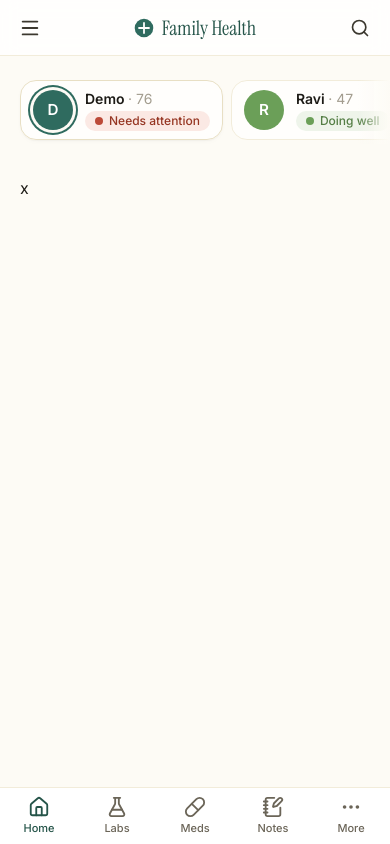
Test case: AppShell › opens and closes the mobile drawer via hamburger
Click the button named "open navigation". click: (30, 28)
box: [8,6,52,50]
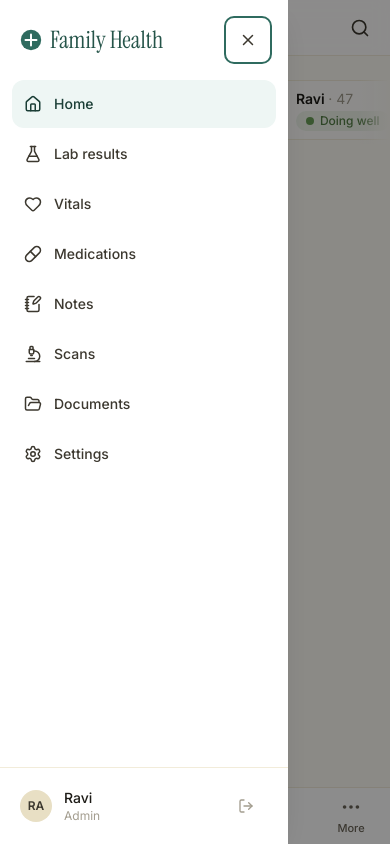
Check: the dialog named "navigation" is shown
Click the button named "close navigation". click: (248, 40)
box: [228,20,268,60]
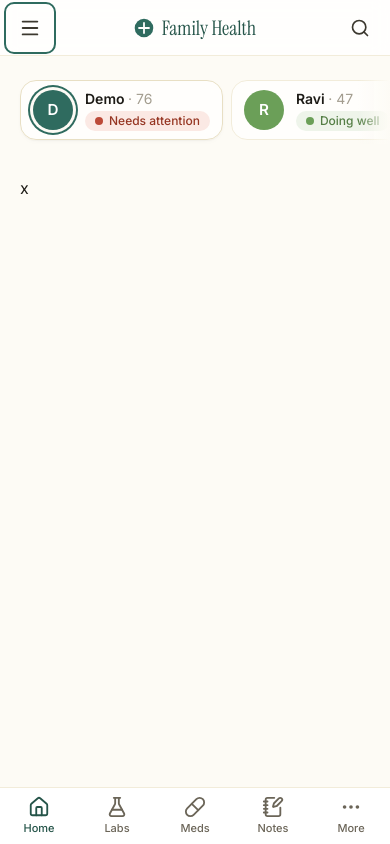
Check: the button "navigation" is gone
